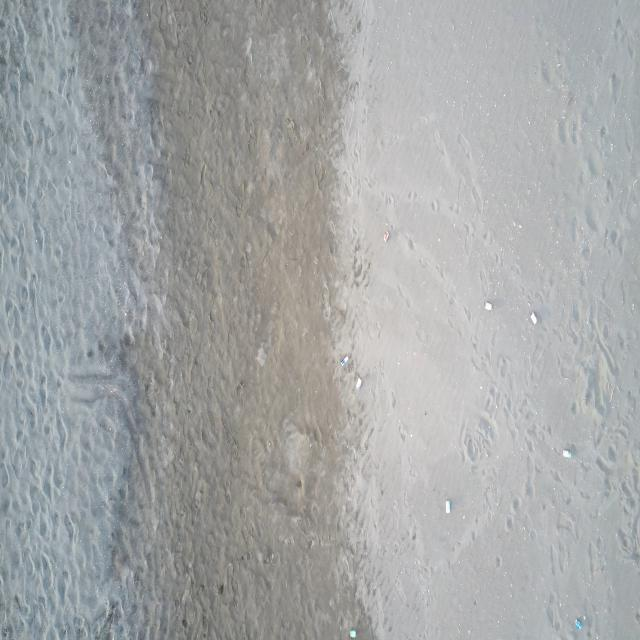Garbage: (575, 616, 583, 628), (529, 311, 536, 324), (444, 499, 451, 512), (484, 300, 492, 310), (340, 357, 348, 366), (562, 448, 572, 455), (348, 628, 355, 637), (355, 376, 360, 388), (383, 230, 388, 241)
